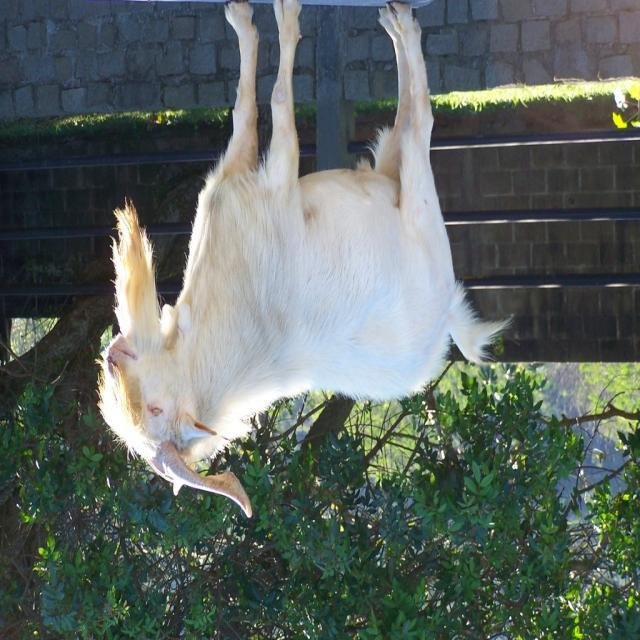Goat: (95, 2, 515, 520)
